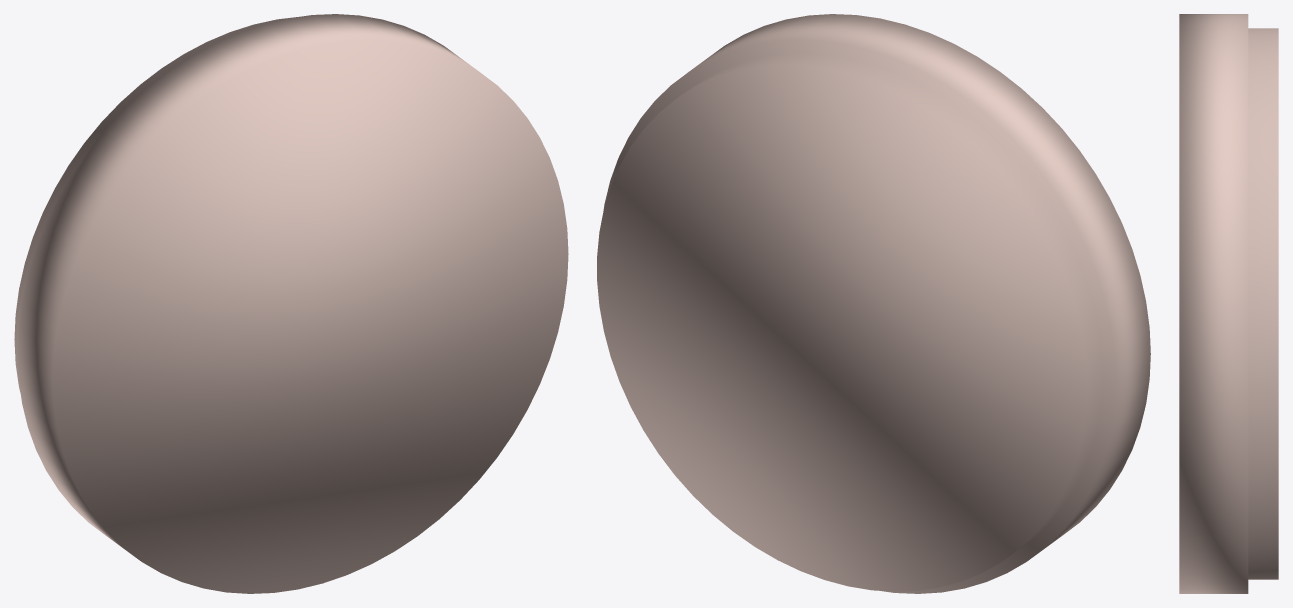
The picture shows the model from 3 angles, left to right: view 1: azimuth 30°, elevation 25°; view 2: azimuth 150°, elevation 25°; view 3: azimuth 270°, elevation 25°; orthographic projection. The views are drawn at different scales.
Bounding box in the file's own units: 71.5 × 71.42 × 12.25.
